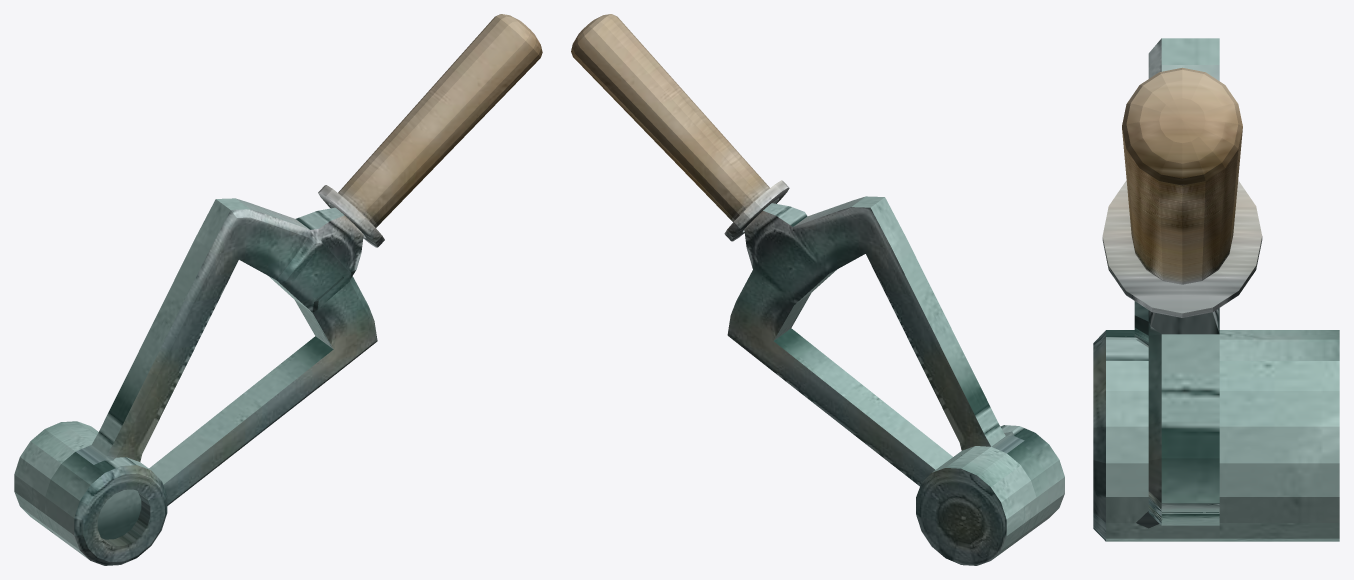
Rendered from engine_signal_handle.gltf.
The picture shows the model from 3 angles, left to right: view 1: azimuth 30°, elevation 25°; view 2: azimuth 150°, elevation 25°; view 3: azimuth 270°, elevation 25°; orthographic projection. The views are drawn at different scales.
Parts seen in each view (by area): view 1: Cylinder.001; view 2: Cylinder.001; view 3: Cylinder.001.
Part boxes in pixels (box(x1,y1,x2,y2)): Cylinder.001: box(14, 14, 542, 565); Cylinder.001: box(571, 14, 1064, 565); Cylinder.001: box(1093, 38, 1339, 541).
Size of the model in its own units: 1.23 by 1.06 by 0.2791.
1 material, 1 textured.
